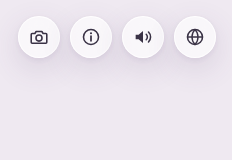
Test: CornerBar › toggles sound and reflects it in aria-pressed
Click the button named "声音" at (143, 37), box x1=122 y1=16 x2=164 y2=58
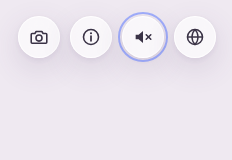
Expected: the button named "声音" is not pressed, x1=122 y1=16 x2=164 y2=58
